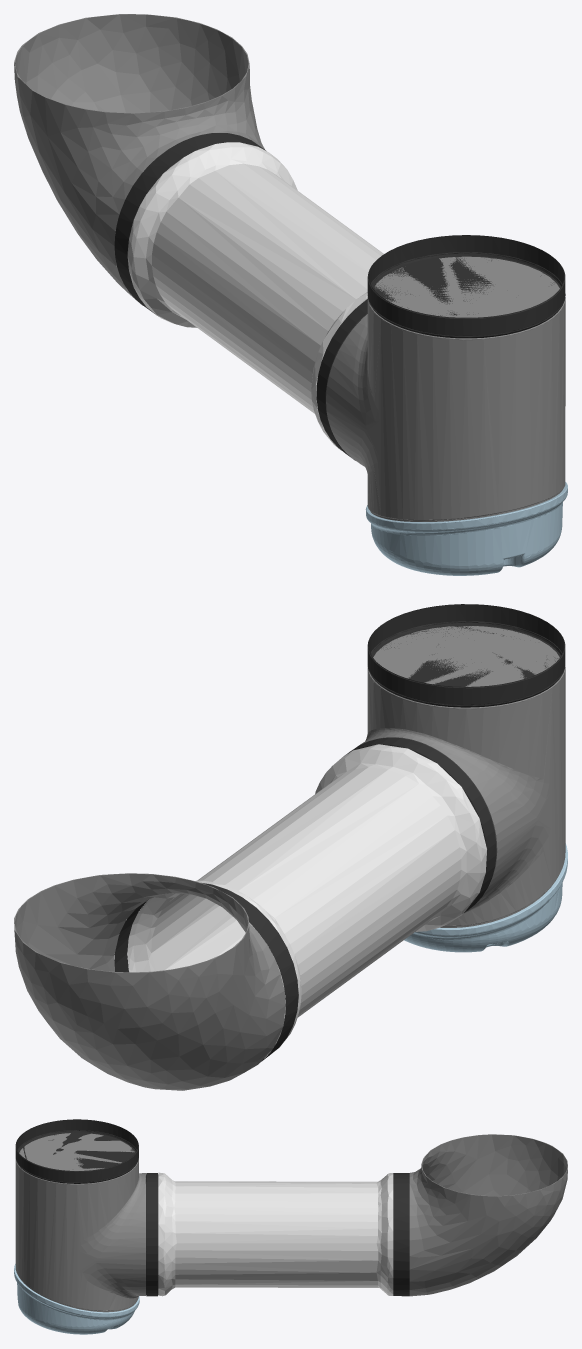
Rendered from forearm.dae.
3 views of the same model, one above another, from view 1: azimuth 30°, elevation 25°; view 2: azimuth 150°, elevation 25°; view 3: azimuth 270°, elevation 25° (orthographic). The views are drawn at different scales.
Parts seen in each view (by area): view 1: eSeries_UR3e_033, eSeries_UR3e_024, eSeries_UR3e_022, eSeries_UR3e_028, eSeries_UR3e_026, eSeries_UR3e_023, eSeries_UR3e_025; view 2: eSeries_UR3e_024, eSeries_UR3e_022, eSeries_UR3e_033, eSeries_UR3e_028, eSeries_UR3e_026, eSeries_UR3e_023, eSeries_UR3e_025; view 3: eSeries_UR3e_024, eSeries_UR3e_022, eSeries_UR3e_033, eSeries_UR3e_028, eSeries_UR3e_026, eSeries_UR3e_023, eSeries_UR3e_025.
Boxes of the visible parts, <box> form: eSeries_UR3e_033: <box>326,256,565,521</box>; eSeries_UR3e_024: <box>127,142,383,450</box>; eSeries_UR3e_022: <box>14,14,264,305</box>; eSeries_UR3e_028: <box>367,235,565,338</box>; eSeries_UR3e_026: <box>365,482,567,575</box>; eSeries_UR3e_023: <box>114,133,265,316</box>; eSeries_UR3e_025: <box>316,299,367,460</box>; eSeries_UR3e_024: <box>127,744,486,1058</box>; eSeries_UR3e_022: <box>14,873,285,1090</box>; eSeries_UR3e_033: <box>357,626,565,927</box>; eSeries_UR3e_028: <box>367,604,565,707</box>; eSeries_UR3e_026: <box>404,843,567,952</box>; eSeries_UR3e_023: <box>114,883,298,1061</box>; eSeries_UR3e_025: <box>343,737,496,912</box>; eSeries_UR3e_024: <box>158,1172,393,1296</box>; eSeries_UR3e_022: <box>409,1134,567,1296</box>; eSeries_UR3e_033: <box>15,1133,145,1312</box>; eSeries_UR3e_028: <box>15,1119,138,1183</box>; eSeries_UR3e_026: <box>14,1264,139,1334</box>; eSeries_UR3e_023: <box>393,1173,409,1296</box>; eSeries_UR3e_025: <box>146,1173,158,1296</box>.
Size of the model in its own units: 75.11 by 283 by 96.95.
